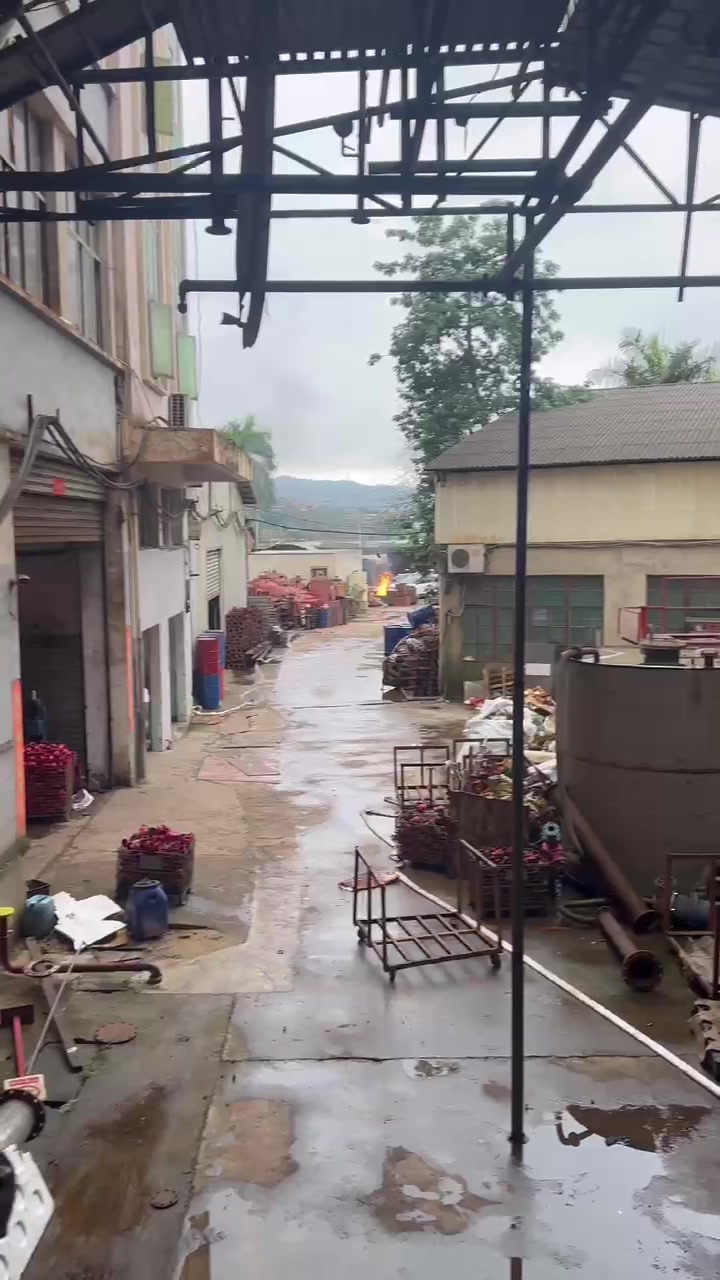fire: (375, 572, 390, 596)
